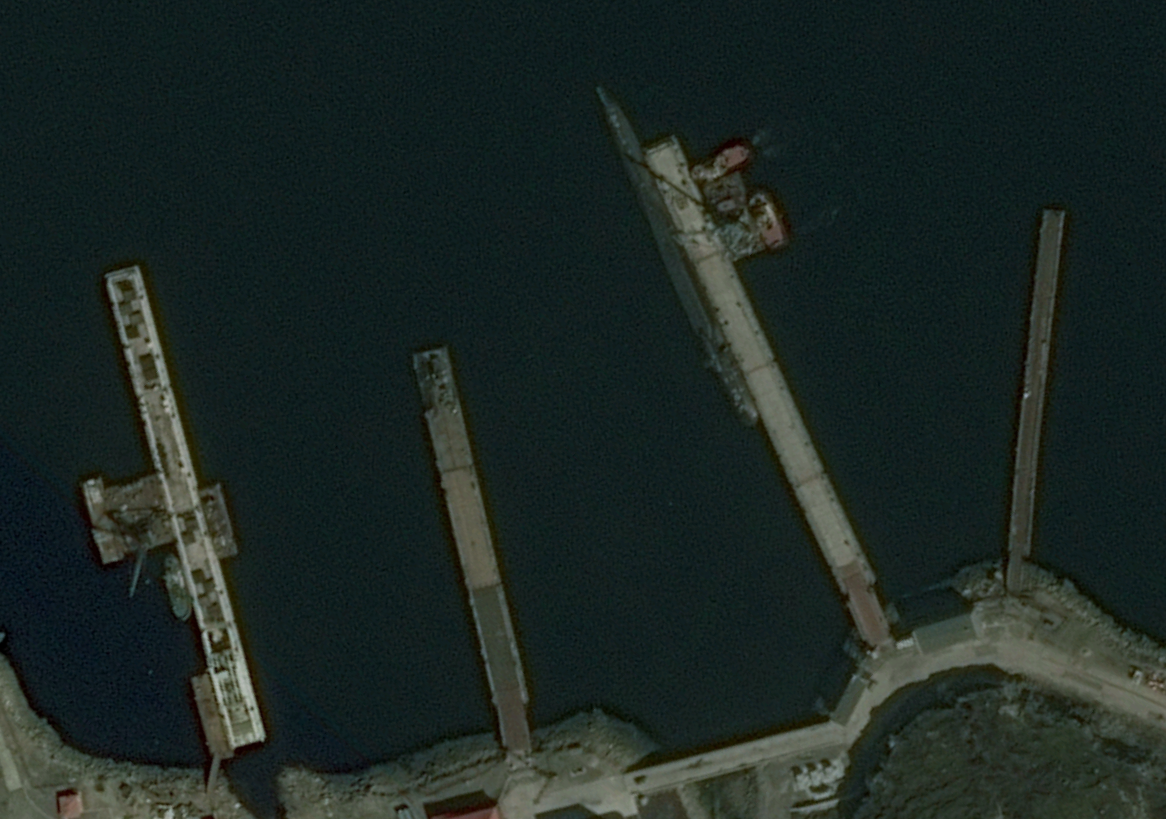merchant ship: (162, 550, 192, 619)
submarine: (594, 82, 758, 428)
